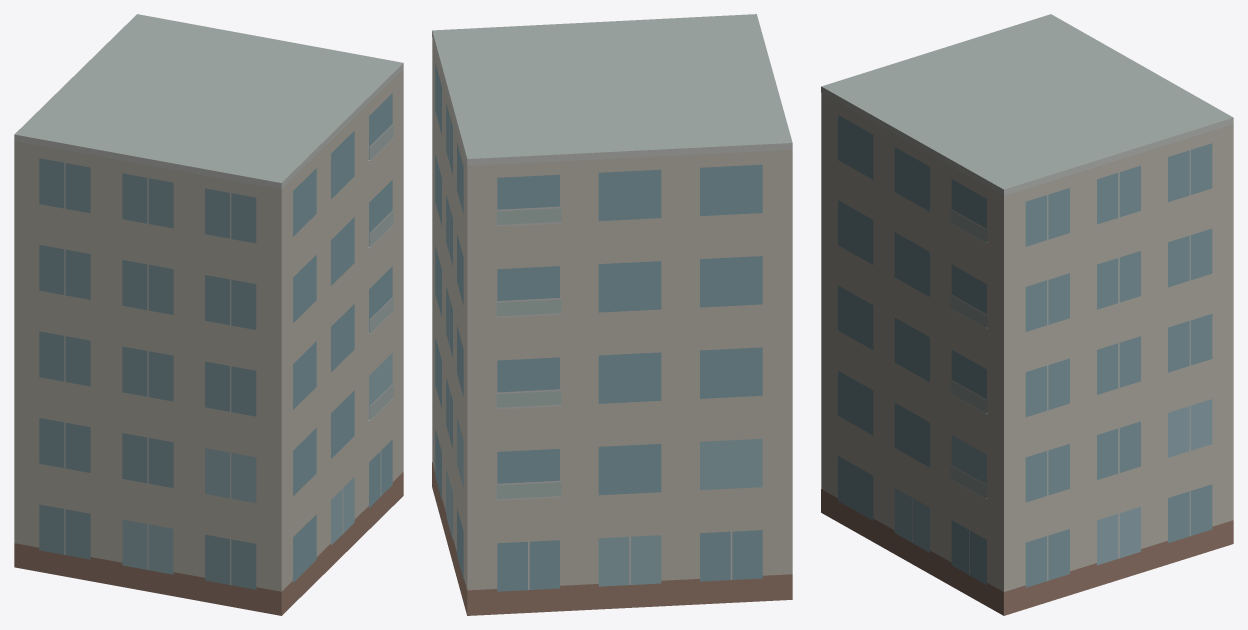
File: survey-upis-32998491.glb
The picture shows the model from 3 angles, left to right: view 1: azimuth 30°, elevation 25°; view 2: azimuth 150°, elevation 25°; view 3: azimuth 270°, elevation 25°; orthographic projection. The views are drawn at different scales.
Parts seen in each view (by area): view 1: survey-upis-32998491.tmp; view 2: survey-upis-32998491.tmp; view 3: survey-upis-32998491.tmp.
Boxes of the visible parts, x1,y1,x2,y2 form: survey-upis-32998491.tmp: (14,14,403,615); survey-upis-32998491.tmp: (432,14,792,615); survey-upis-32998491.tmp: (821,14,1233,615).
Bounding box in the file's own units: 14.5 × 16.4 × 14.39.
